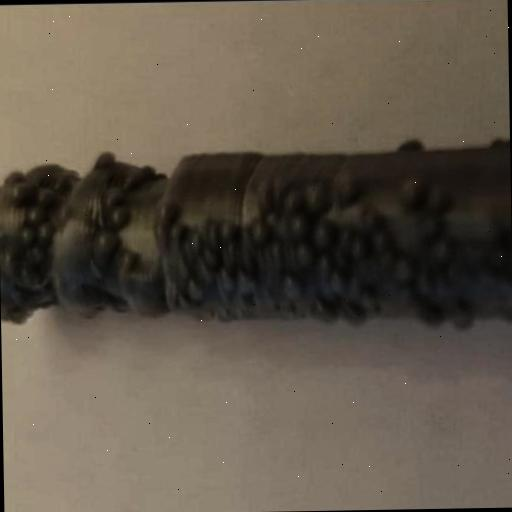blobs: (88, 224, 126, 263), (396, 176, 426, 216), (243, 216, 273, 250), (338, 173, 364, 210), (303, 178, 327, 215), (329, 266, 354, 300), (313, 220, 339, 252), (288, 207, 313, 240), (391, 260, 416, 293), (348, 236, 374, 267), (202, 242, 228, 273), (291, 240, 315, 272), (278, 274, 304, 303), (157, 196, 181, 226), (238, 272, 262, 298), (216, 268, 238, 296), (108, 206, 132, 230), (34, 221, 55, 247), (14, 223, 36, 247), (170, 216, 190, 242), (38, 184, 61, 206), (183, 278, 204, 302), (96, 150, 116, 174), (14, 179, 32, 205), (222, 220, 240, 246), (24, 202, 43, 225), (122, 252, 140, 273), (111, 188, 130, 206)
